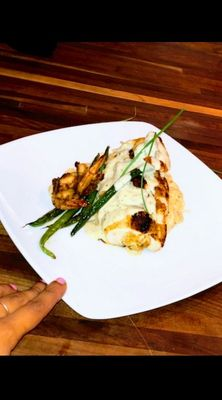curry: (1, 33, 221, 363)
